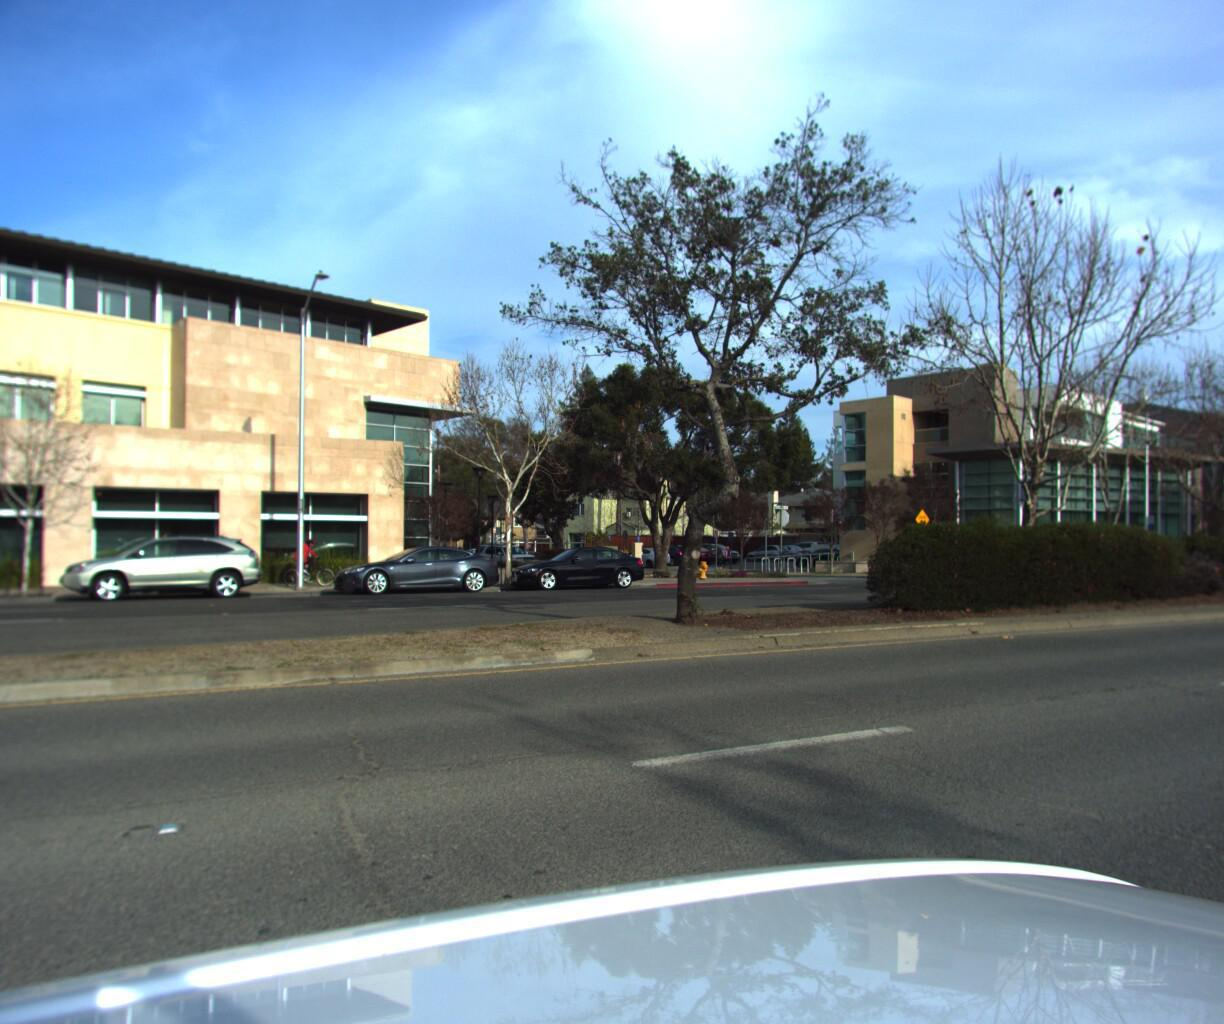car: (56, 532, 259, 606), (327, 541, 498, 598), (502, 543, 638, 592), (468, 533, 541, 567)
